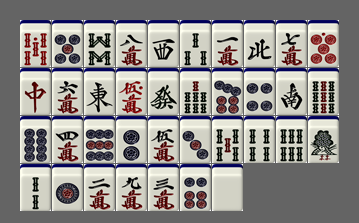0m: (116, 68, 147, 115)
0p: (308, 20, 339, 67)
0s: (20, 20, 51, 67)
1m: (212, 20, 243, 67)
1p: (52, 164, 83, 211)
1s: (308, 116, 339, 163)
1z: (84, 68, 115, 115)
2m: (84, 164, 115, 211)
2p: (116, 116, 147, 163)
2s: (20, 164, 51, 211)
2z: (276, 68, 307, 115)
3m: (148, 164, 179, 211)
3p: (180, 116, 211, 163)
3s: (180, 20, 211, 67)
3z: (148, 20, 179, 67)
4m: (52, 116, 83, 163)
4p: (244, 68, 275, 115)
4s: (244, 116, 275, 163)
4z: (244, 20, 275, 67)
5m: (148, 116, 179, 163)
5p: (52, 20, 83, 67)
5s: (212, 116, 243, 163)
5z: (212, 164, 243, 211)
6m: (52, 68, 83, 115)
6p: (180, 164, 211, 211)
6s: (276, 116, 307, 163)
6z: (148, 68, 179, 115)
7m: (276, 20, 307, 67)
7p: (212, 68, 243, 115)
7s: (180, 68, 211, 115)
7z: (20, 68, 51, 115)
8m: (116, 20, 147, 67)
8p: (20, 116, 51, 163)
8s: (84, 20, 115, 67)
9m: (116, 164, 147, 211)
9p: (84, 116, 115, 163)
9s: (308, 68, 339, 115)
